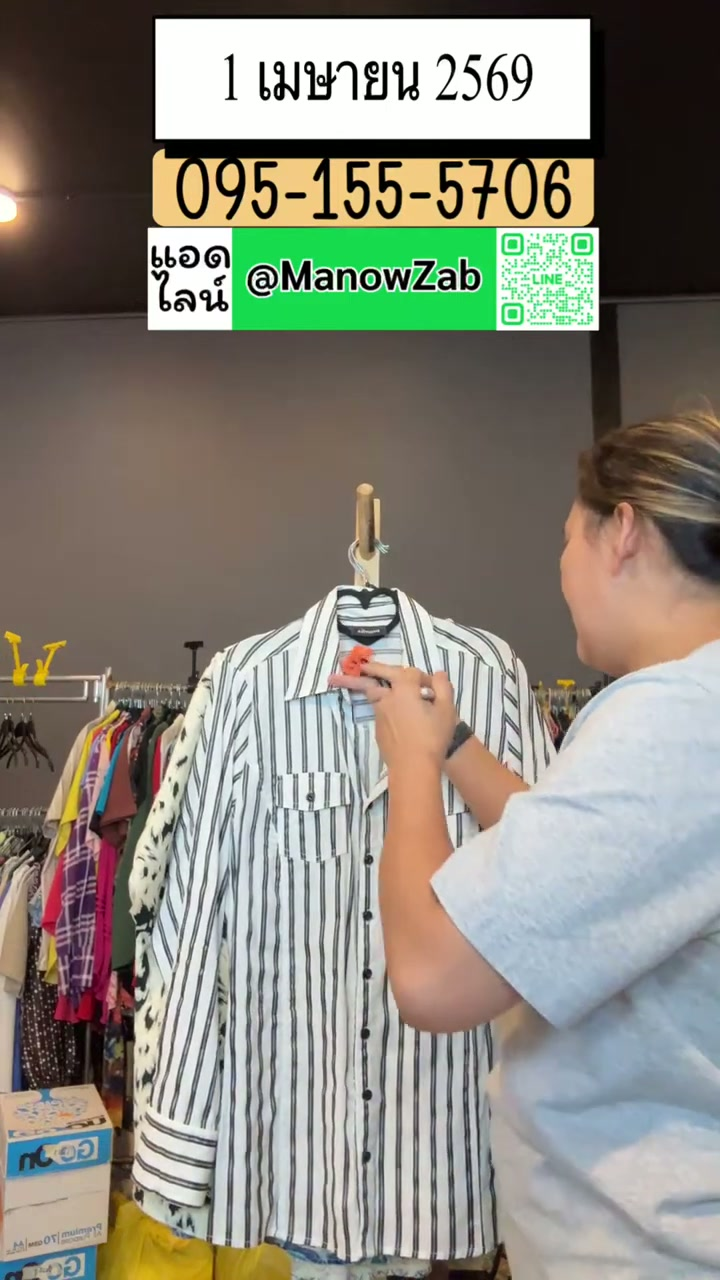display_shirt: (136, 592, 496, 1261), (387, 592, 553, 782)
